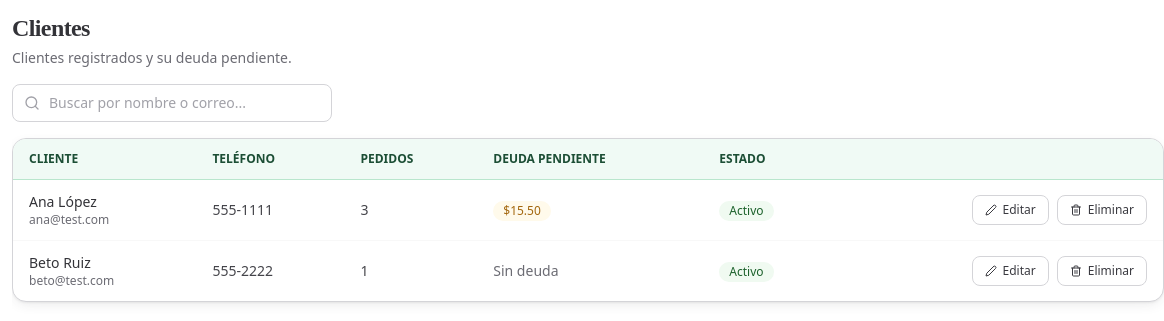
AdminCustomersPage › filtra los clientes por nombre o correo
Step 1. Type "beto" into the search field with placeholder "Buscar por nombre o correo..." → (172, 103), box x1=12 y1=84 x2=332 y2=122
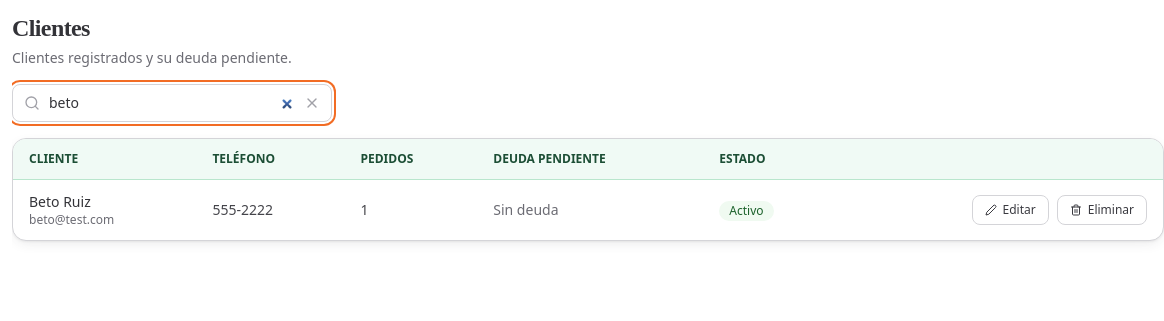
expect the text "Beto Ruiz" is shown: met, box x1=29 y1=192 x2=91 y2=211
expect the text "Ana López" is gone: met
